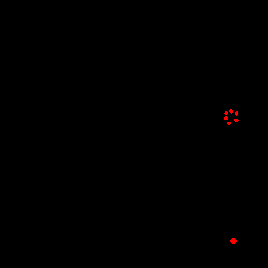Target: (230, 238, 237, 244), (229, 109, 233, 114), (224, 111, 228, 115), (224, 116, 228, 120), (235, 111, 238, 116), (234, 119, 239, 122), (227, 122, 231, 125)
